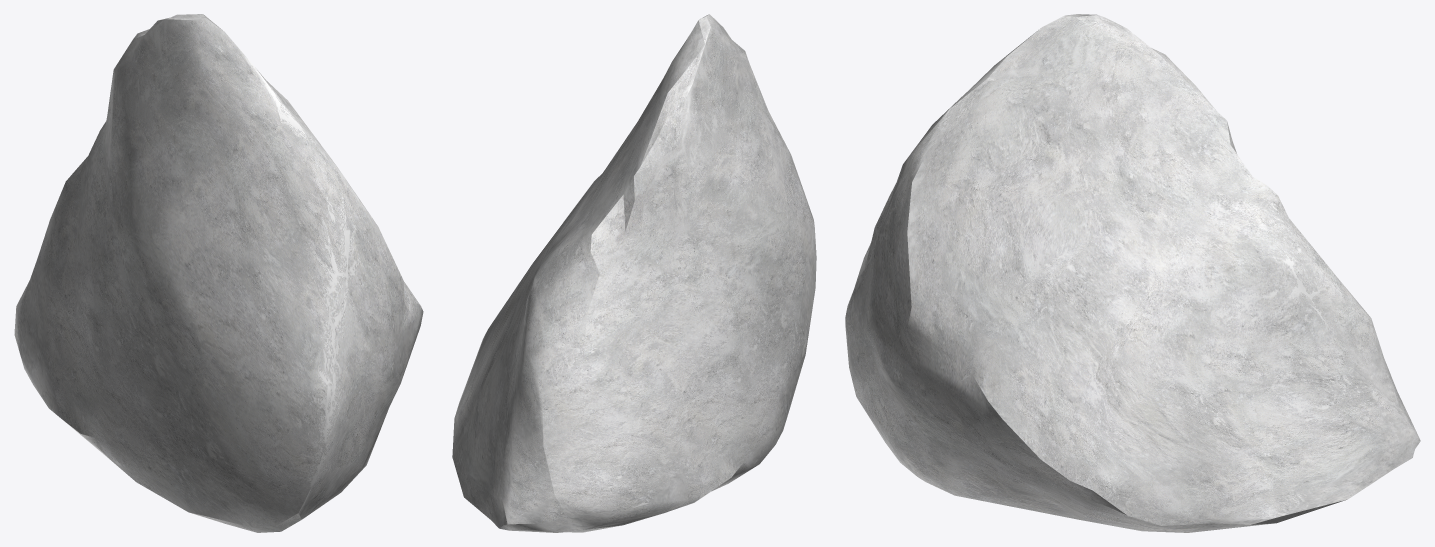
The model's file is rock_00E_lp.fbx.
3 renders of one model, left to right at view 1: azimuth 30°, elevation 25°; view 2: azimuth 150°, elevation 25°; view 3: azimuth 270°, elevation 25°, orthographic. The views are drawn at different scales.
Parts seen in each view (by area): view 1: rock_00E_lp; view 2: rock_00E_lp; view 3: rock_00E_lp.
Boxes of the visible parts, x1=… form: rock_00E_lp: x1=14, y1=14, x2=423, y2=532; rock_00E_lp: x1=452, y1=14, x2=816, y2=532; rock_00E_lp: x1=845, y1=14, x2=1420, y2=532.
Size of the model in its own units: 154 by 237 by 267.
